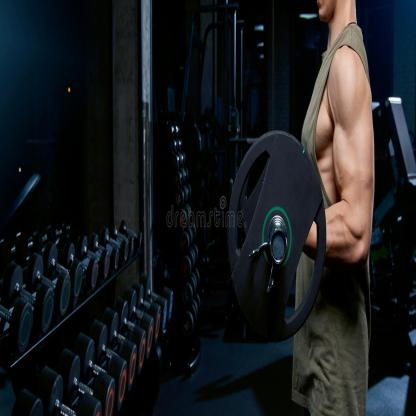Barbell: (229, 128, 328, 346)
